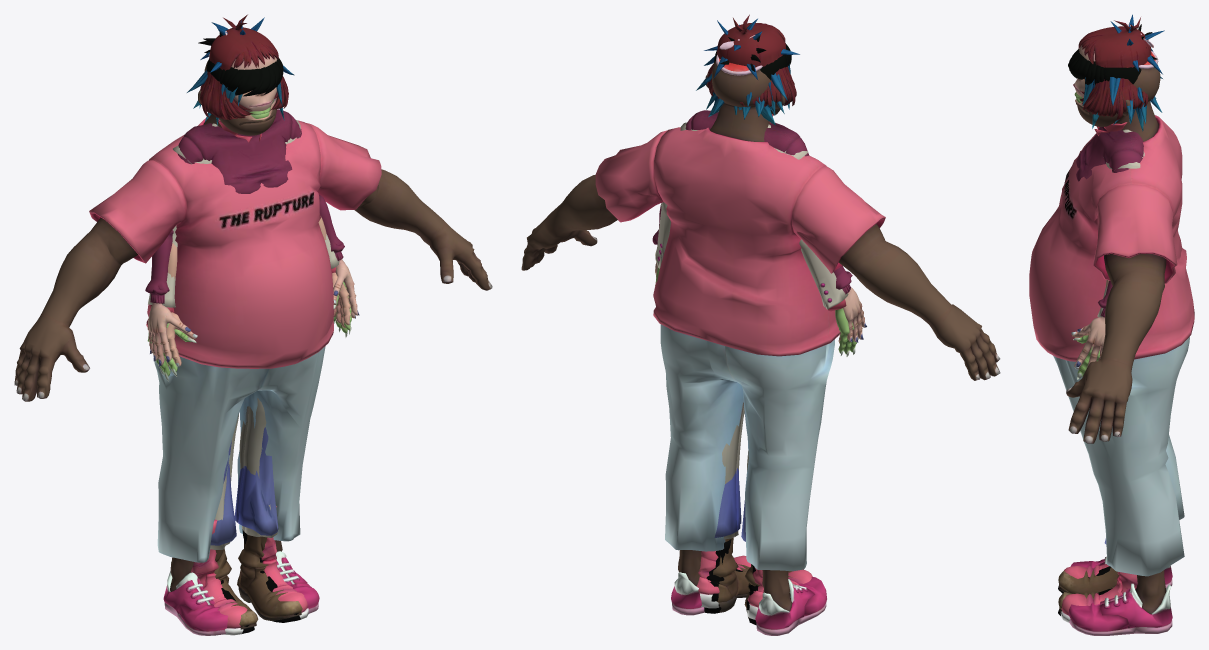
The model's file is gorillaz-phase7-web.glb.
3 views of the same model, side by side, from view 1: azimuth 30°, elevation 25°; view 2: azimuth 150°, elevation 25°; view 3: azimuth 270°, elevation 25° (orthographic).
Parts seen in each view (by area): view 1: russel_Russell_CasualClothes.smd, russel_Russell_Body_Cut.smd, noodle_NXA__Noodle_Noodle_Jumper_geo_001.smd, twod_TwoD_Pants_geo.smd, noodle_NXA__Noodle_noodle_hair_geo_001.smd, twod_TwoD_Boots_geo.smd, noodle_NXA__Noodle_Noodle_Boots_geo_001.smd, murdoc_Murdoc_SuitPants.smd, noodle_NXA__Noodle_Noodle_Body_geo_001.smd, murdoc_Murdoc_Hair.smd, twod_TwoD_Body_geo.smd, murdoc_Murdoc_SuitVest.smd (+4 smaller); view 2: russel_Russell_CasualClothes.smd, russel_Russell_Body_Cut.smd, russel_Russell_Head.smd, noodle_NXA__Noodle_noodle_hair_geo_001.smd, murdoc_Murdoc_SuitVest.smd, noodle_NXA__Noodle_Noodle_Jumper_geo_001.smd, noodle_NXA__Noodle_Noodle_Boots_geo_001.smd, twod_TwoD_HairFull_geo.smd, twod_TwoD_Boots_geo.smd, twod_TwoD_Pants_geo.smd, murdoc_Murdoc_SuitPants.smd, noodle_NXA__Noodle_Noodle_Body_geo_001.smd (+1 smaller); view 3: russel_Russell_CasualClothes.smd, russel_Russell_Body_Cut.smd, noodle_NXA__Noodle_noodle_hair_geo_001.smd, noodle_NXA__Noodle_Noodle_Jumper_geo_001.smd, russel_Russell_Head.smd, noodle_NXA__Noodle_Noodle_Boots_geo_001.smd, murdoc_Murdoc_Hair.smd, twod_TwoD_HairFull_geo.smd, twod_TwoD_Boots_geo.smd, noodle_NXA__Noodle_Noodle_Body_geo_001.smd, murdoc_Murdoc_Body.smd, noodle_NXA__Noodle_Noodle_Head1_geo_001.smd.
Part boxes in pixels (box(x1,y1,x2,y2)): russel_Russell_CasualClothes.smd: box(89, 118, 381, 635); russel_Russell_Body_Cut.smd: box(14, 169, 492, 591); noodle_NXA__Noodle_Noodle_Jumper_geo_001.smd: box(145, 109, 344, 303); twod_TwoD_Pants_geo.smd: box(210, 427, 278, 545); noodle_NXA__Noodle_noodle_hair_geo_001.smd: box(200, 14, 288, 119); twod_TwoD_Boots_geo.smd: box(214, 535, 302, 629); noodle_NXA__Noodle_Noodle_Boots_geo_001.smd: box(191, 506, 308, 635); murdoc_Murdoc_SuitPants.smd: box(210, 398, 277, 549); noodle_NXA__Noodle_Noodle_Body_geo_001.smd: box(147, 259, 359, 366); murdoc_Murdoc_Hair.smd: box(198, 25, 283, 96); twod_TwoD_Body_geo.smd: box(165, 217, 350, 370); murdoc_Murdoc_SuitVest.smd: box(148, 120, 339, 312); russel_Russell_CasualClothes.smd: box(595, 127, 885, 635); russel_Russell_Body_Cut.smd: box(521, 175, 1000, 611); russel_Russell_Head.smd: box(705, 61, 785, 141); noodle_NXA__Noodle_noodle_hair_geo_001.smd: box(707, 14, 796, 106); murdoc_Murdoc_SuitVest.smd: box(655, 122, 848, 311); noodle_NXA__Noodle_Noodle_Jumper_geo_001.smd: box(652, 110, 852, 294); noodle_NXA__Noodle_Noodle_Boots_geo_001.smd: box(696, 551, 812, 619); twod_TwoD_HairFull_geo.smd: box(696, 18, 799, 125); twod_TwoD_Boots_geo.smd: box(713, 537, 792, 618); twod_TwoD_Pants_geo.smd: box(714, 468, 745, 541); murdoc_Murdoc_SuitPants.smd: box(722, 402, 748, 539); noodle_NXA__Noodle_Noodle_Body_geo_001.smd: box(655, 262, 866, 342); russel_Russell_CasualClothes.smd: box(1029, 115, 1194, 635); russel_Russell_Body_Cut.smd: box(1066, 254, 1166, 628); noodle_NXA__Noodle_noodle_hair_geo_001.smd: box(1078, 17, 1153, 120); noodle_NXA__Noodle_Noodle_Jumper_geo_001.smd: box(1076, 127, 1143, 317); russel_Russell_Head.smd: box(1076, 64, 1160, 141); noodle_NXA__Noodle_Noodle_Boots_geo_001.smd: box(1060, 564, 1137, 622); murdoc_Murdoc_Hair.smd: box(1068, 24, 1157, 85); twod_TwoD_HairFull_geo.smd: box(1082, 14, 1164, 131); twod_TwoD_Boots_geo.smd: box(1058, 567, 1119, 611); noodle_NXA__Noodle_Noodle_Body_geo_001.smd: box(1075, 316, 1105, 367); murdoc_Murdoc_Body.smd: box(1073, 335, 1100, 379); noodle_NXA__Noodle_Noodle_Head1_geo_001.smd: box(1073, 45, 1095, 97).
Size of the model in its own units: 1.2 by 1.44 by 0.3672.
4 materials, 4 textured.
